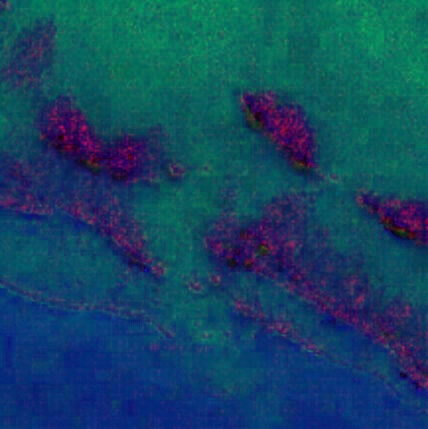rip_current: (127, 54, 259, 343)
